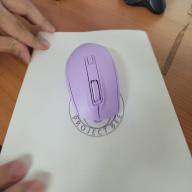mouse: (54, 36, 126, 128)
